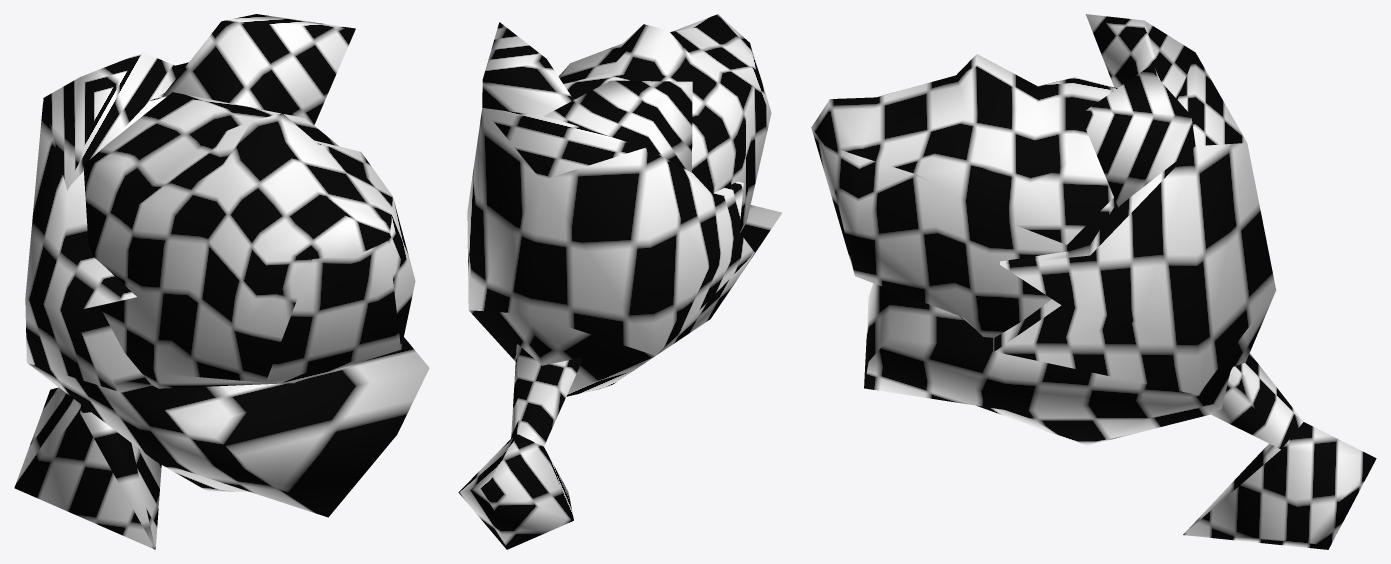
The model's file is infa1.dae.
3 renders of one model, left to right at view 1: azimuth 30°, elevation 25°; view 2: azimuth 150°, elevation 25°; view 3: azimuth 270°, elevation 25°, orthographic. The views are drawn at different scales.
Parts seen in each view (by area): view 1: face; view 2: face; view 3: face.
Boxes of the visible parts, x1,y1,x2,y2 form: face: (14, 14, 429, 549); face: (458, 14, 781, 549); face: (811, 14, 1376, 549).
Size of the model in its own units: 0.9928 by 1.72 by 1.69.
1 material, 1 textured.
